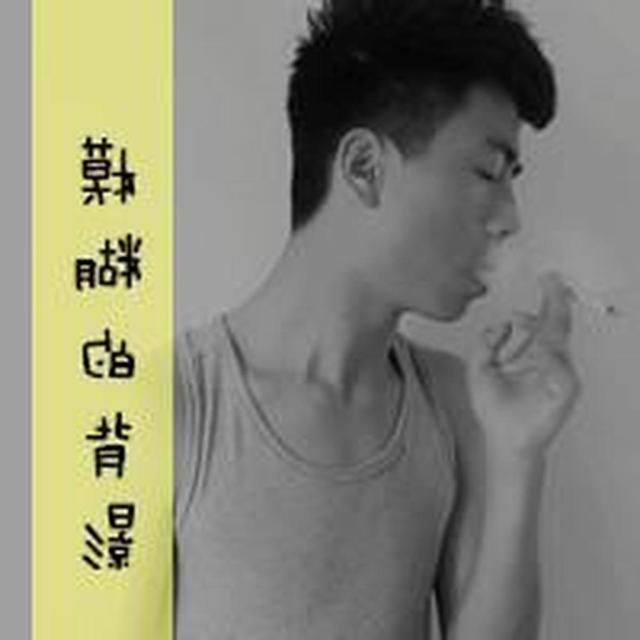smoking: (270, 1, 626, 445)
